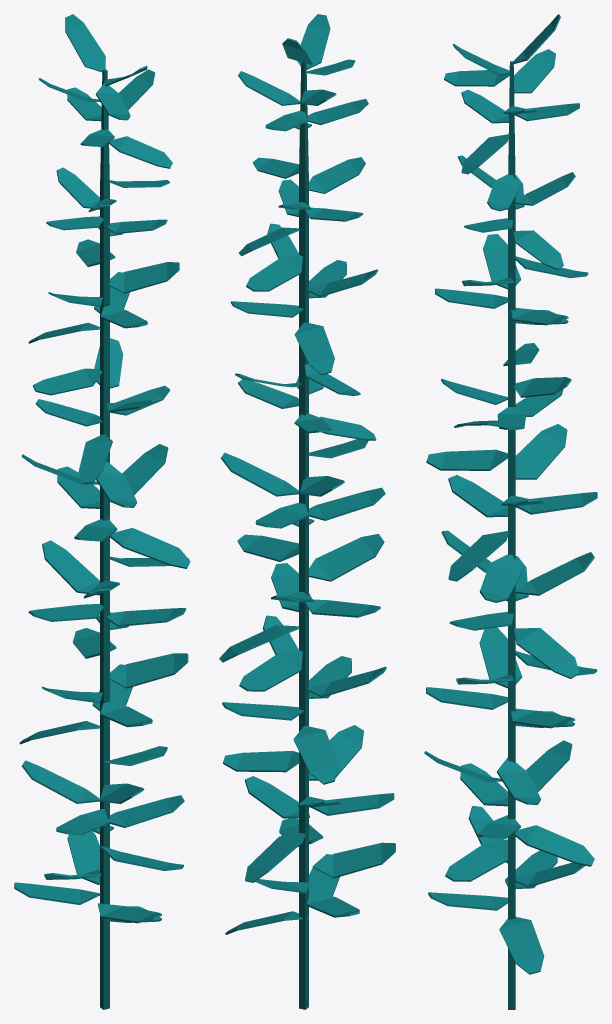
The model's file is Seaweed_018.glb.
3 views of the same model, side by side, from view 1: azimuth 30°, elevation 25°; view 2: azimuth 150°, elevation 25°; view 3: azimuth 270°, elevation 25° (orthographic).
Visible parts, largest first — view 1: Seaweed_018; view 2: Seaweed_018; view 3: Seaweed_018.
Part boxes in pixels (x1,y1,x2,y2): Seaweed_018: (14, 14, 190, 1009); Seaweed_018: (219, 14, 395, 1009); Seaweed_018: (424, 14, 597, 1009).
Size of the model in its own units: 0.5282 by 3.31 by 0.5267.
Materials: 1 (1 with a texture image).
